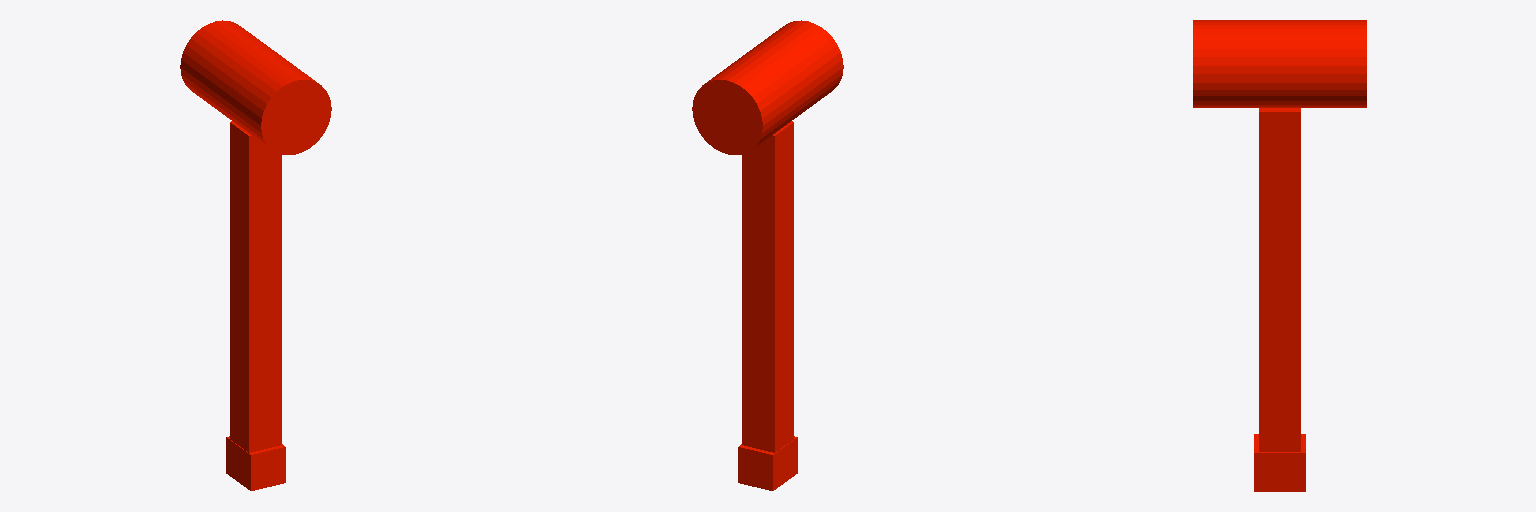
robot.urdf — Deadblow Mallet:
<?xml version="1.0" ?>
<robot name="Deadblow Mallet">

    <!-- Base Link -->
    <link name="base_link">
        <origin rpy="1.5708 0 0" xyz="0 0 0"/>
    </link>

    <!-- Mallet Head -->
    <link name="mallet_head">
        <inertial>
            <origin xyz="0.0 0.0 0.0" rpy="0.0 0.0 0.0"/>
            <mass value="667.5"/>
            <inertia ixx="1.0188275" ixy="0.0" ixz="0.0" iyy="1.0188275" iyz="0.0" izz="0.40884375"/>
        </inertial>
        <visual name="mallet_head_visual">
            <origin xyz="0.0 0.0 0.0" rpy="0.0 0.0 0.0"/>
            <geometry>
                <cylinder radius="0.0305" length="0.121"/>
            </geometry>
            <material name="">
                <color rgba="1.0 0.15 0.0 1.0"/>
            </material>
        </visual>
        <collision>
            <origin xyz="0.0 0.0 0.0" rpy="0.0 0.0 0.0"/>
            <geometry>
                <cylinder radius="0.0305" length="0.121"/>
            </geometry>
        </collision>
    </link>

    <!-- Base Joint -->
    <joint name="base_head_joint" type="fixed">
        <origin xyz="0.0 0.0 0.3225" rpy="1.57079632679 0.0 0.0"/>
        <parent link="base_link"/>
        <child link="mallet_head"/>
    </joint>

    <!-- Mallet Handle -->
    <link name="mallet_handle">
        <inertial>
            <origin xyz="0.0 0.0 0.0" rpy="0.0 0.0 0.0"/>
            <mass value="667.5"/>
            <inertia ixx="4.883151875" ixy="0.0" ixz="0.0" iyy="4.883151875" iyz="0.0" izz="0.28068375"/>
        </inertial>
        <visual name="mallet_handle_visual">
            <origin xyz="0.0 0.0 0.0" rpy="0.0 0.0 0.0"/>
            <geometry>
                <box size="0.029 0.029 .262"/>
            </geometry>
            <material name="">
                <color rgba="1.0 0.15 0.0 1.0"/>
            </material>
        </visual>
        <collision>
            <origin xyz="0.0 0.0 0.0" rpy="0.0 0.0 0.0"/>
            <geometry>
                <box size="0.029 0.029 .262"/>
            </geometry>
        </collision>
    </link>

    <!-- Head-Handle Joint -->
    <joint name="head_handle_joint" type="fixed">
        <origin xyz="0.0 -.1615 0.0" rpy="-1.57079632679 0.0 0.0"/>
        <parent link="mallet_head"/>
        <child link="mallet_handle"/>
    </joint>

    <!-- Mallet Ball -->
    <link name="mallet_ball">
        <inertial>
            <origin xyz="0.0 0.0 0.0" rpy="0.0 0.0 0.0"/>
            <mass value="0.0"/>
            <inertia ixx="0.0" ixy="0.0" ixz="0.0" iyy="0.0" iyz="0.0" izz="0.0"/>
        </inertial>
        <visual name="mallet_ball_visual">
            <origin xyz="0.0 0.0 0.0" rpy="0.0 0.0 0.0"/>
            <geometry>
                <box size="0.030 0.037 0.030"/>
            </geometry>
            <material name="">
                <color rgba="1.0 0.15 0.0 1.0"/>
            </material>
        </visual>
        <collision>
            <origin xyz="0.0 0.0 0.0" rpy="0.0 0.0 0.0"/>
            <geometry>
                <box size="0.030 0.037 0.030"/>
            </geometry>
        </collision>
    </link>

    <!-- Handle-Ball Joint -->
    <joint name="handle_ball_joint" type="fixed">
        <origin xyz="0.0 0.0 -0.146" rpy="0.0 0.0 0.0"/>
        <parent link="mallet_handle"/>
        <child link="mallet_ball"/>
    </joint>
</robot>

--- Facts derived from the render (not from the file) ---
3 views of the same robot in one strip: view 1: azimuth 30°, elevation 25°; view 2: azimuth 150°, elevation 25°; view 3: azimuth 270°, elevation 25° (orthographic).
Robot: Deadblow Mallet — 4 links, 3 joints (3 fixed); root link base_link; default pose: all joints at 0.
Links seen in each view (by area): view 1: mallet_handle, mallet_head, mallet_ball; view 2: mallet_handle, mallet_head, mallet_ball; view 3: mallet_head, mallet_handle, mallet_ball.
Boxes of the visible links, x1,y1,x2,y2 form: mallet_handle: (230, 121, 281, 452); mallet_head: (180, 20, 331, 154); mallet_ball: (226, 436, 285, 490); mallet_handle: (742, 121, 793, 452); mallet_head: (692, 20, 843, 154); mallet_ball: (738, 436, 797, 490); mallet_head: (1193, 20, 1366, 107); mallet_handle: (1259, 108, 1300, 451); mallet_ball: (1254, 434, 1305, 491).
Bounding box of the posed robot: 0.061 × 0.121 × 0.353 m (x, y, z).
Geometry: primitives only (box / cylinder / sphere), no mesh files.